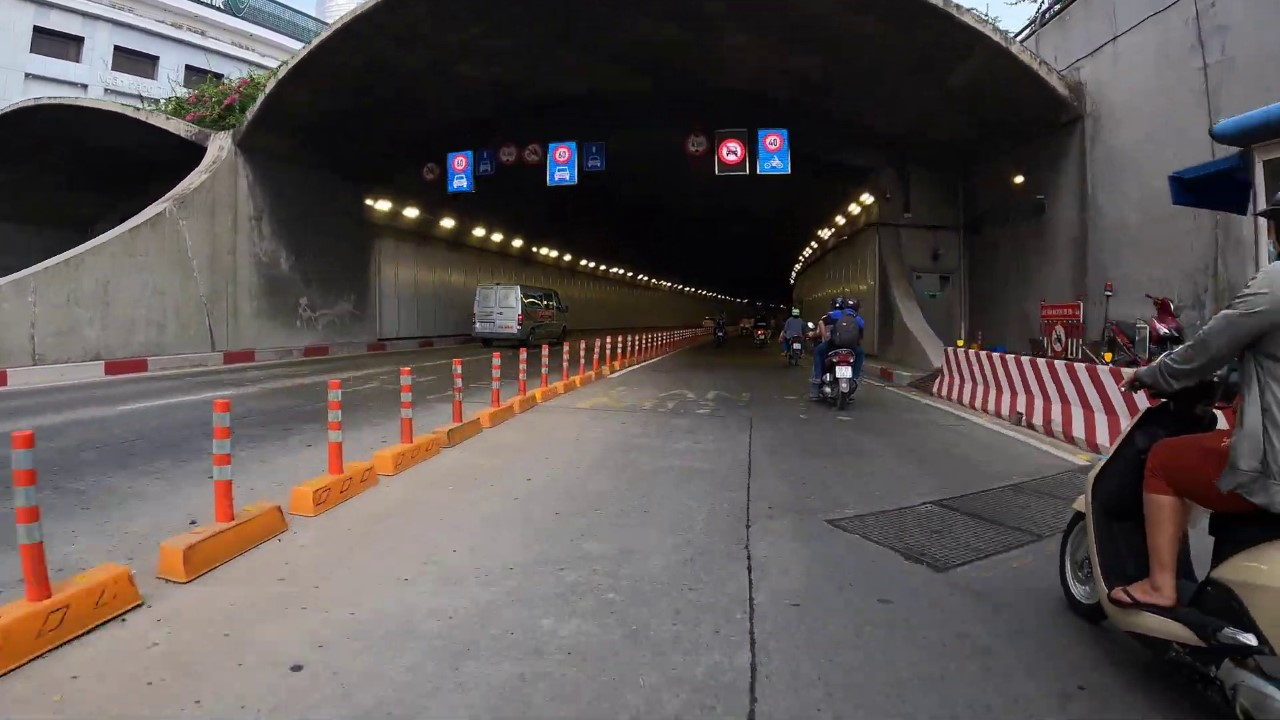gioi_han_60km: (552, 144, 572, 165), (452, 155, 469, 173)
